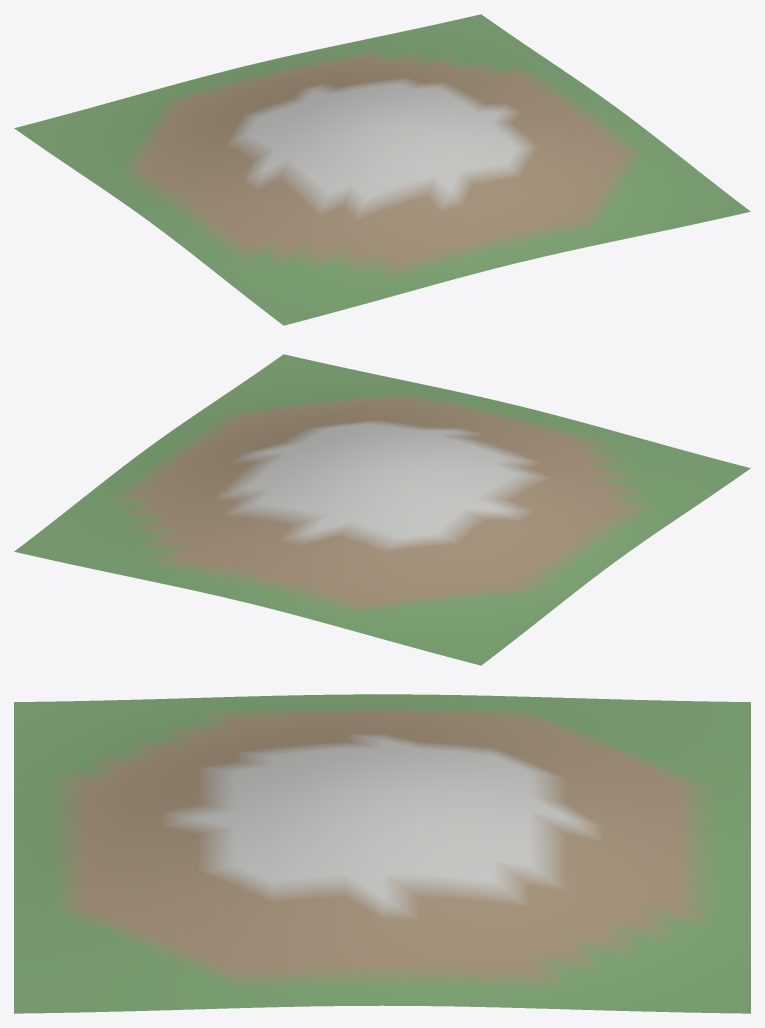
File: loma.glb
3 renders of one model, top to bottom at view 1: azimuth 30°, elevation 25°; view 2: azimuth 150°, elevation 25°; view 3: azimuth 270°, elevation 25°, orthographic. The views are drawn at different scales.
Visible parts, largest first — view 1: loma; view 2: loma; view 3: loma.
Boxes of the visible parts, x1,y1,x2,y2 form: loma: [14, 14, 750, 325]; loma: [14, 354, 750, 665]; loma: [14, 694, 750, 1013].
Size of the model in its own units: 20 by 1.96 by 20.
